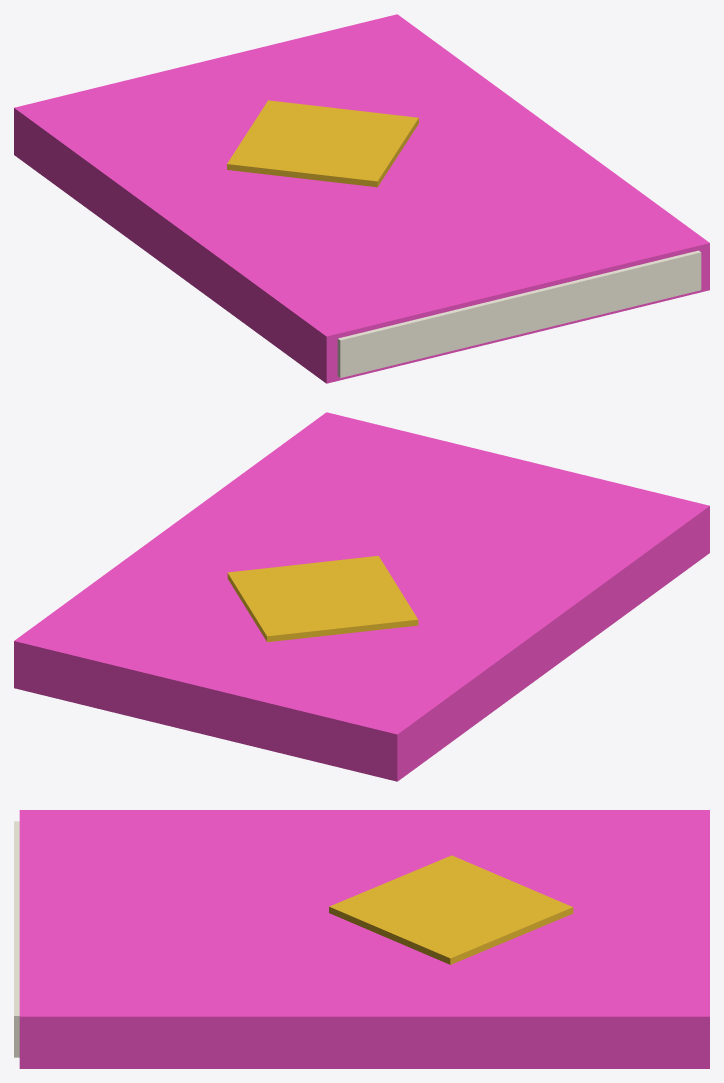
Rendered from karaoke_diva_manual.glb.
The picture shows the model from 3 angles, top to bottom: view 1: azimuth 30°, elevation 25°; view 2: azimuth 150°, elevation 25°; view 3: azimuth 270°, elevation 25°; orthographic projection. The views are drawn at different scales.
Visible parts, largest first — view 1: cover_manual_pink, pages_manual_pages, star_manual_gold; view 2: cover_manual_pink, star_manual_gold; view 3: cover_manual_pink, star_manual_gold, pages_manual_pages.
Part boxes in pixels (x1,y1,x2,y2): cover_manual_pink: (14,14,709,383); pages_manual_pages: (337,250,701,377); star_manual_gold: (227,100,418,187); cover_manual_pink: (14,412,709,781); star_manual_gold: (227,556,418,642); cover_manual_pink: (19,810,709,1068); star_manual_gold: (329,855,573,964); pages_manual_pages: (14,821,19,1057).
Size of the model in its own units: 0.17 by 0.0225 by 0.242.
